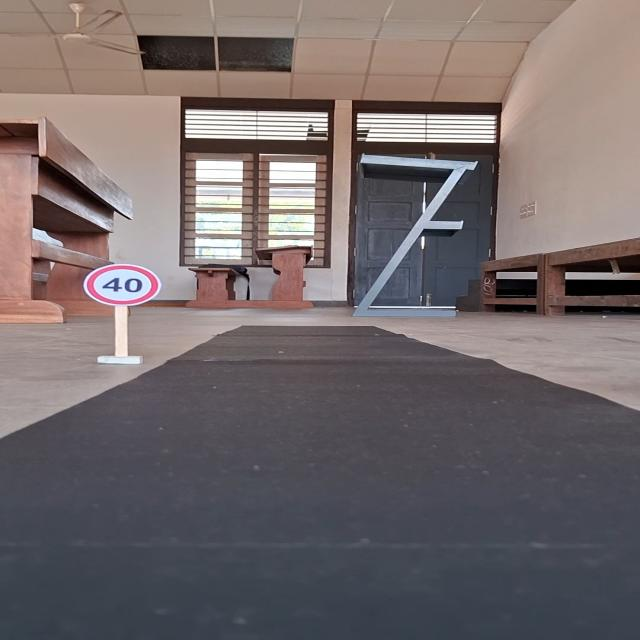Speed40: (78, 262, 162, 309)
